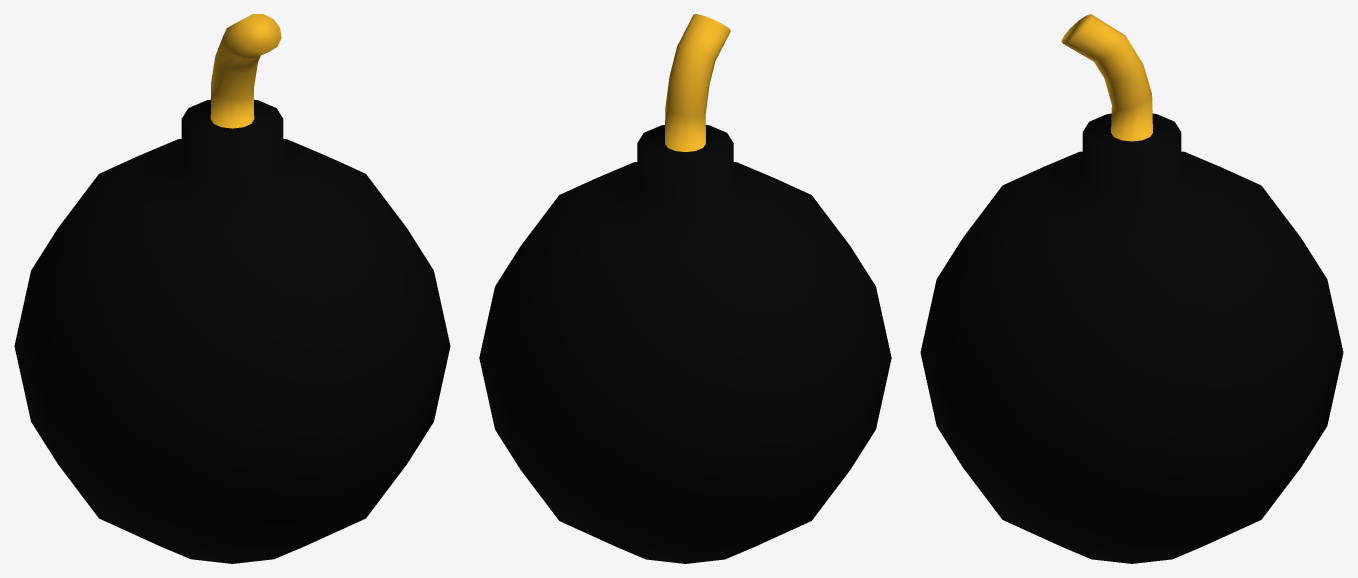
File: bomb.fbx
The picture shows the model from 3 angles, left to right: view 1: azimuth 30°, elevation 25°; view 2: azimuth 150°, elevation 25°; view 3: azimuth 270°, elevation 25°; orthographic projection. The views are drawn at different scales.
Visible parts, largest first — view 1: Sphere; view 2: Sphere; view 3: Sphere.
Boxes of the visible parts, bbox=[...] form: Sphere: bbox=[14, 14, 450, 563]; Sphere: bbox=[479, 14, 891, 563]; Sphere: bbox=[920, 14, 1343, 563].
Bounding box in the file's own units: 200 × 276 × 200.
